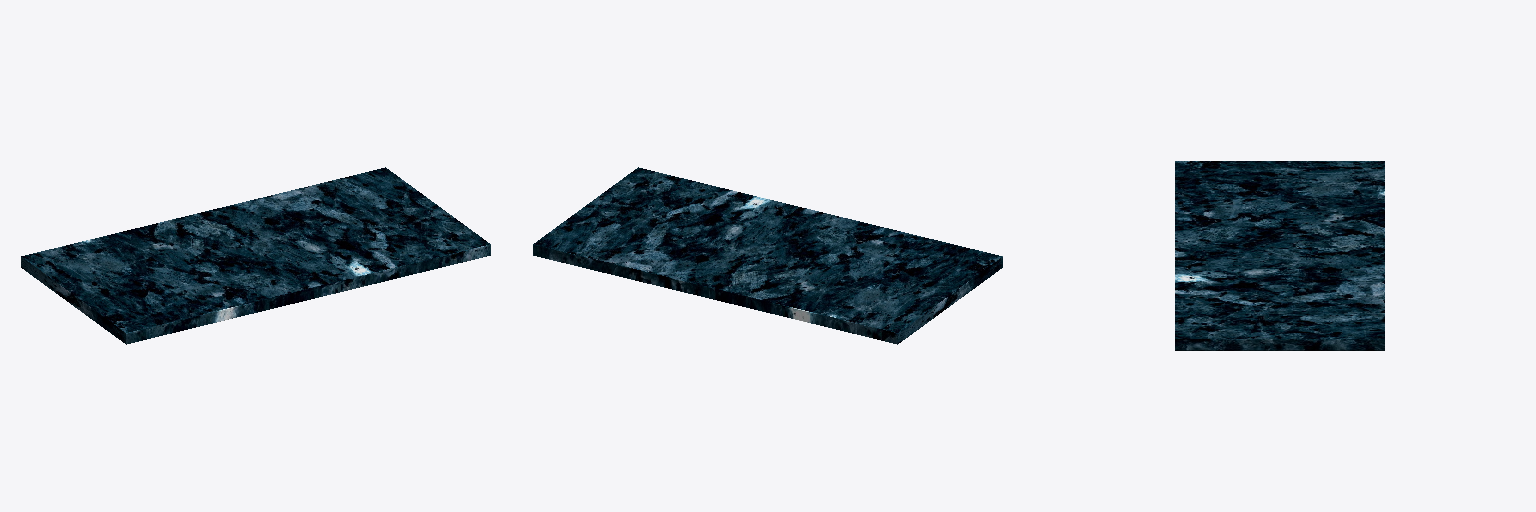
3 views of the same model, side by side, from view 1: azimuth 30°, elevation 25°; view 2: azimuth 150°, elevation 25°; view 3: azimuth 270°, elevation 25° (orthographic).
Parts seen in each view (by area): view 1: model_model.080; view 2: model_model.080; view 3: model_model.080.
Boxes of the visible parts, x1=… form: model_model.080: x1=21, y1=167, x2=490, y2=344; model_model.080: x1=533, y1=167, x2=1002, y2=344; model_model.080: x1=1175, y1=161, x2=1384, y2=350.
Size of the model in its own units: 1.27 by 0.038 by 0.635.
Materials: 1 (1 with a texture image).